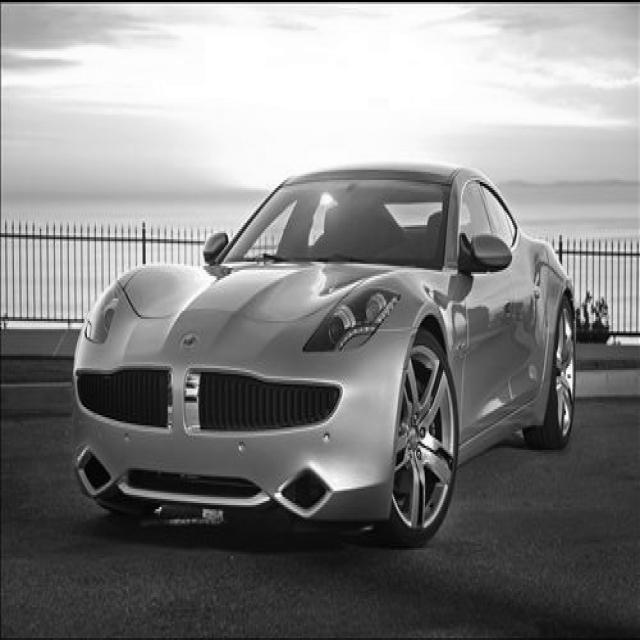car: (70, 159, 576, 548)
